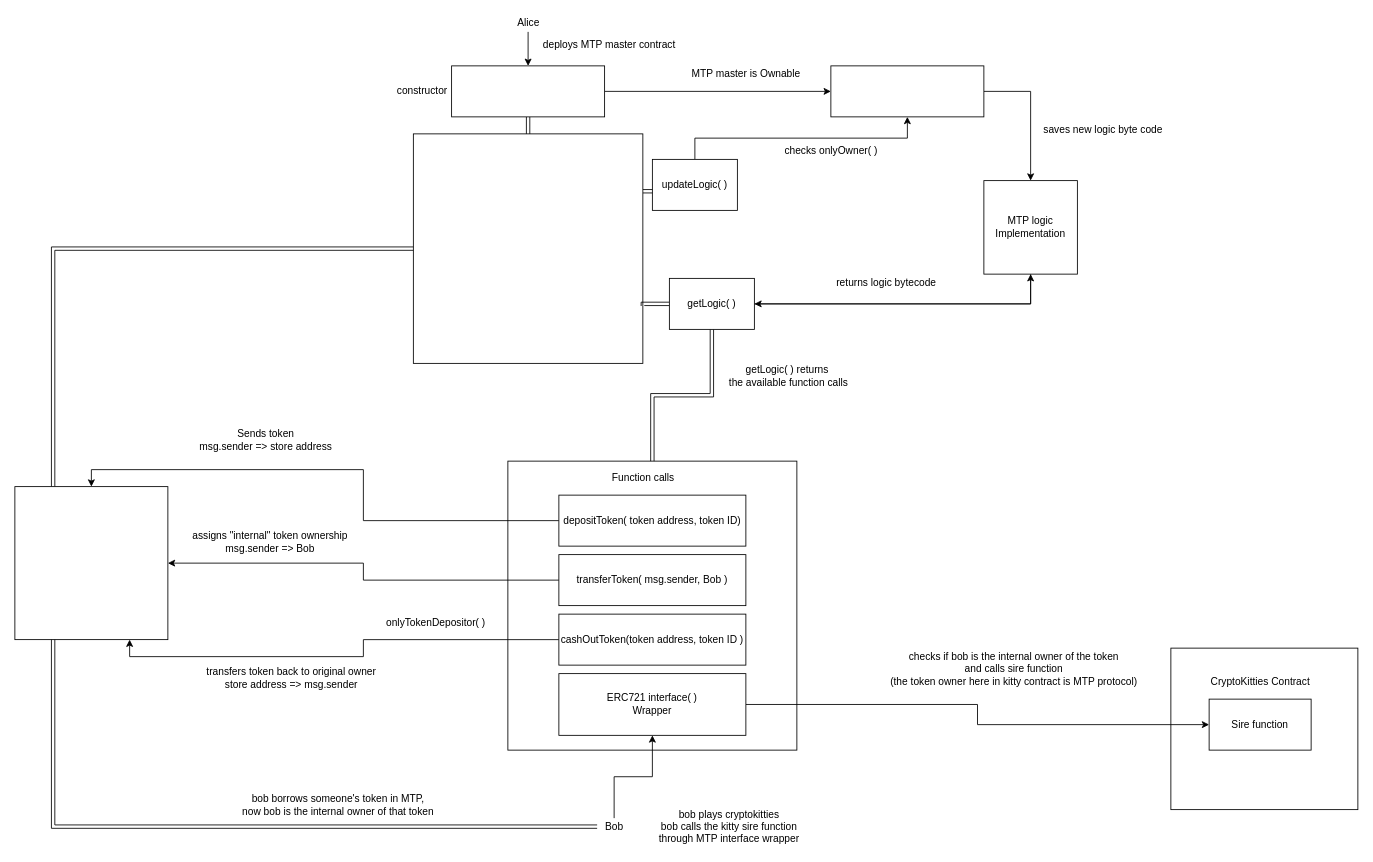
Image size: 1373x862. Some labels were removed from this diagram. Each missing label, with the box of its shape:
initialize( ): (451, 65, 605, 117)
MTP master: (413, 133, 643, 363)
MTP store: (14, 486, 168, 640)
Ownable( Master owner ): (830, 65, 984, 117)
